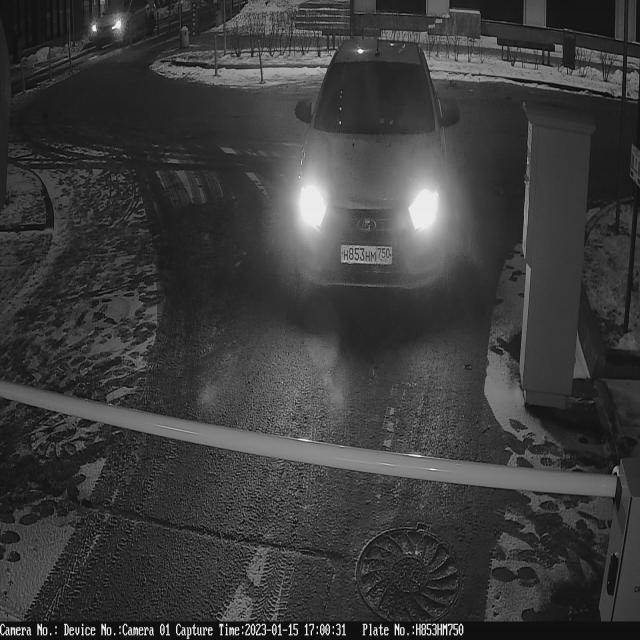car-plate-numbers: (340, 241, 396, 269)
